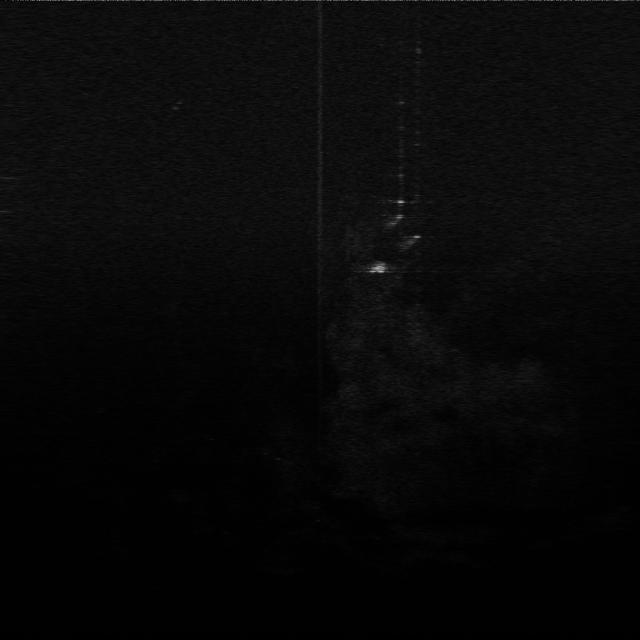rov: (368, 260, 392, 276)
